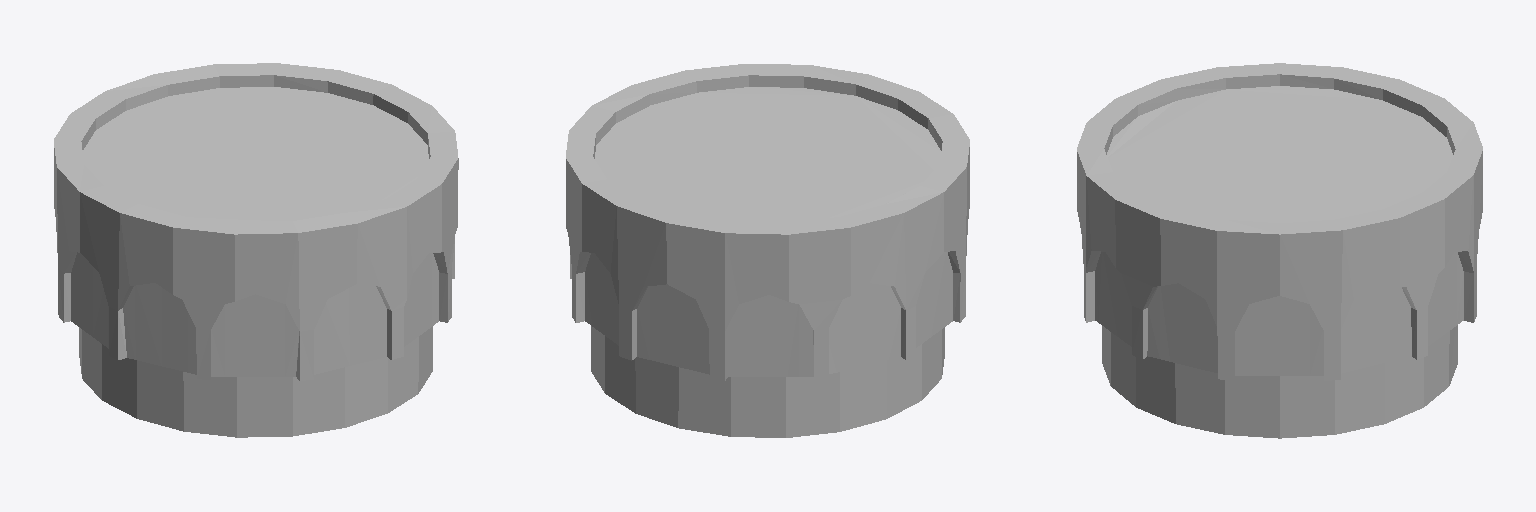
The model's file is table_7.obj.
3 renders of one model, left to right at view 1: azimuth 30°, elevation 25°; view 2: azimuth 150°, elevation 25°; view 3: azimuth 270°, elevation 25°, orthographic.
Visible parts, largest first — view 1: Mesa1.006_Cylinder.006; view 2: Mesa1.006_Cylinder.006; view 3: Mesa1.006_Cylinder.006.
Boxes of the visible parts, x1,y1,x2,y2 form: Mesa1.006_Cylinder.006: [54, 63, 458, 437]; Mesa1.006_Cylinder.006: [566, 64, 969, 437]; Mesa1.006_Cylinder.006: [1077, 63, 1482, 438].
Bounding box in the file's own units: 1.2 × 0.6999 × 1.2.